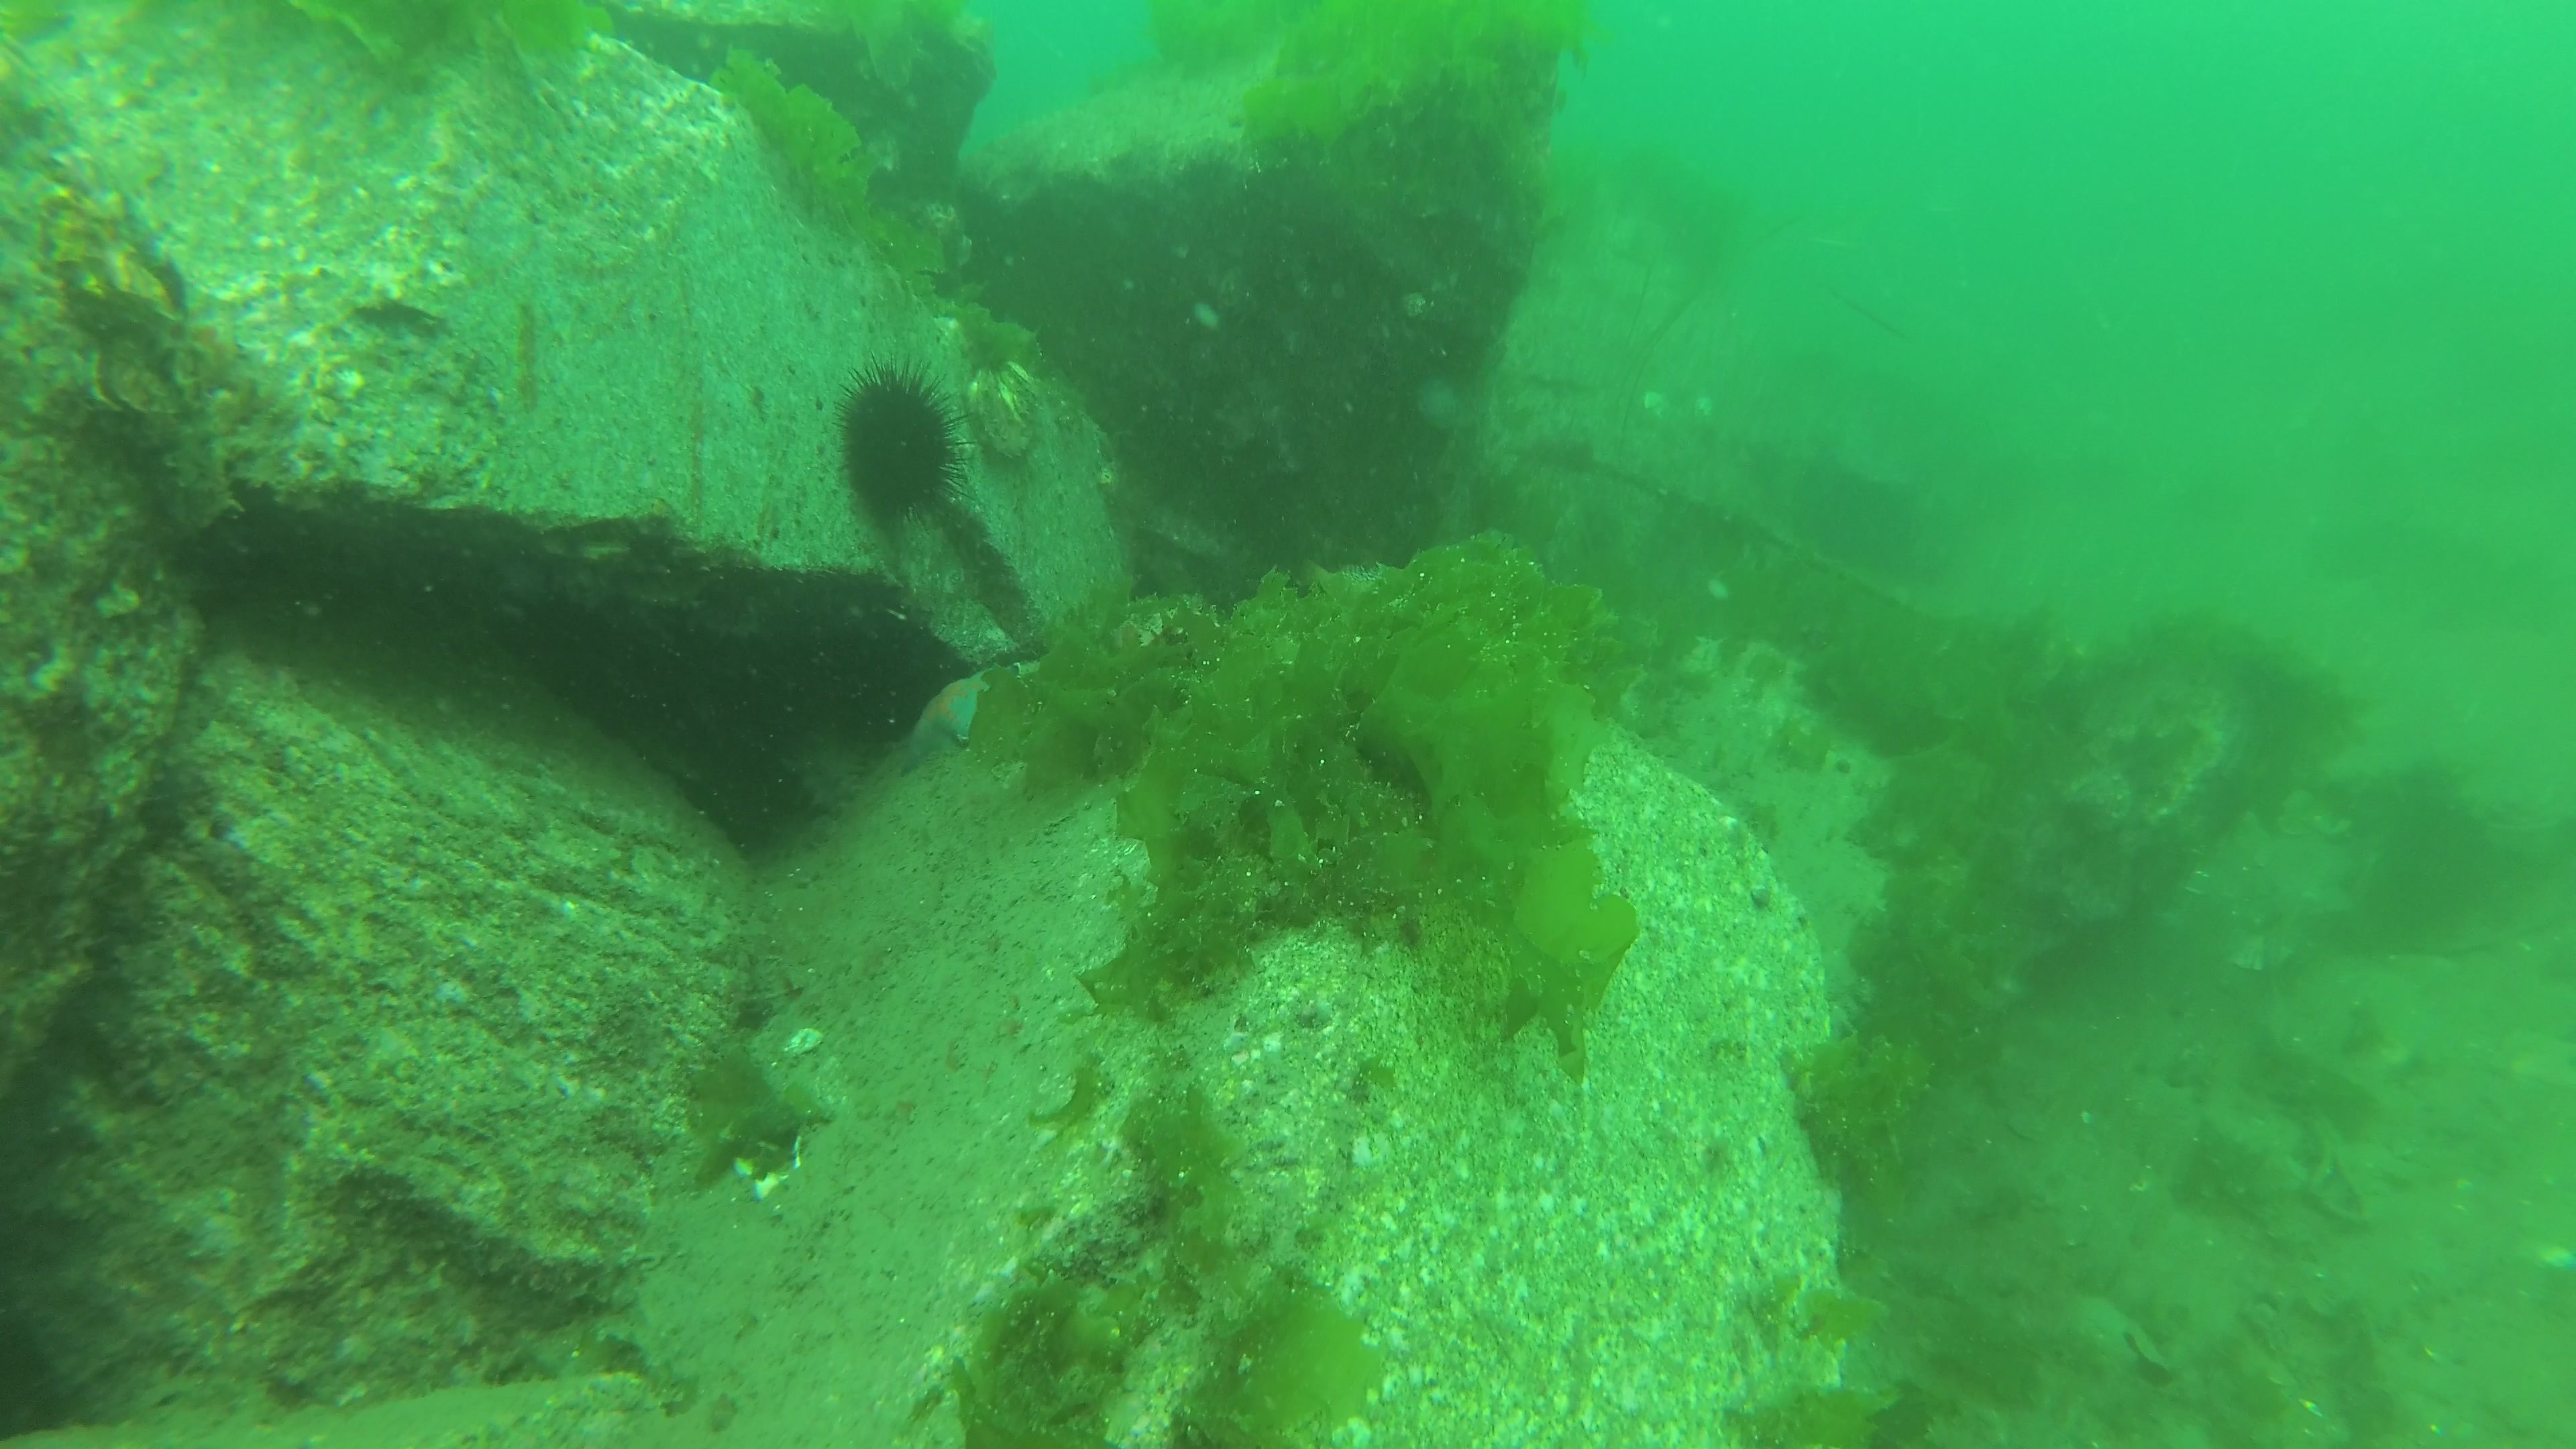echinus: (828, 354, 982, 548)
starfish: (897, 672, 993, 770)
